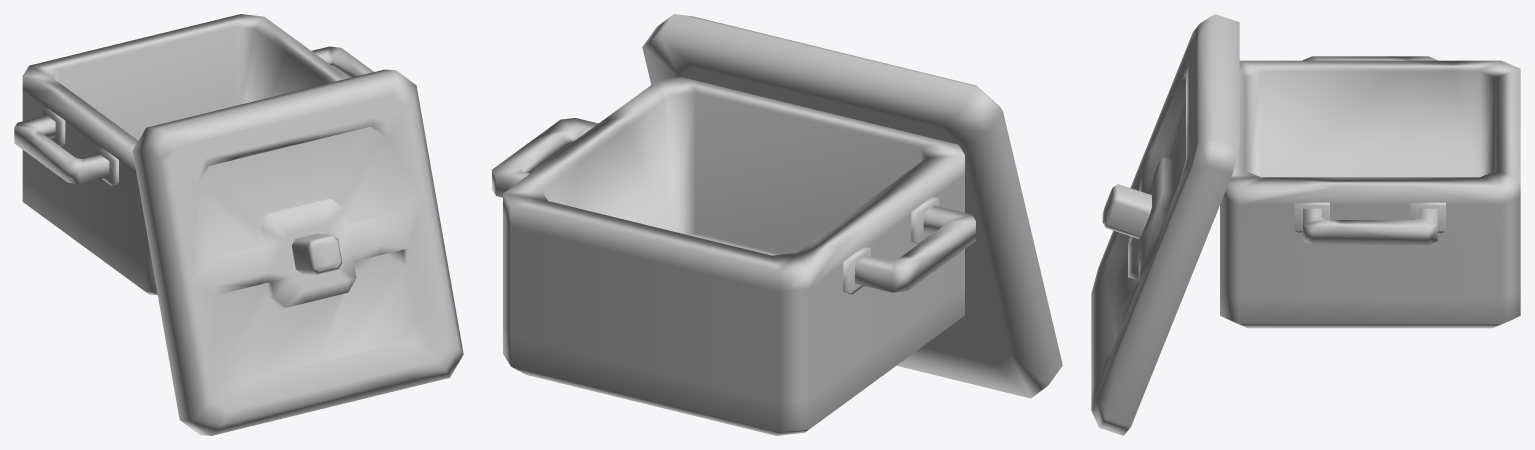
Rendered from BC_cauldron03_break.fbx.
The picture shows the model from 3 angles, left to right: view 1: azimuth 30°, elevation 25°; view 2: azimuth 150°, elevation 25°; view 3: azimuth 270°, elevation 25°; orthographic projection. The views are drawn at different scales.
Visible parts, largest first — view 1: model03 1, model03; view 2: model03, model03 1; view 3: model03, model03 1.
Boxes of the visible parts, x1,y1,x2,y2 form: model03 1: (132, 69, 463, 435); model03: (14, 14, 373, 295); model03: (492, 77, 975, 435); model03 1: (642, 14, 1062, 398); model03: (1220, 56, 1520, 328); model03 1: (1091, 14, 1239, 435).
Bounding box in the file's own units: 5.41 × 4.36 × 5.71.
1 material, 1 textured.
